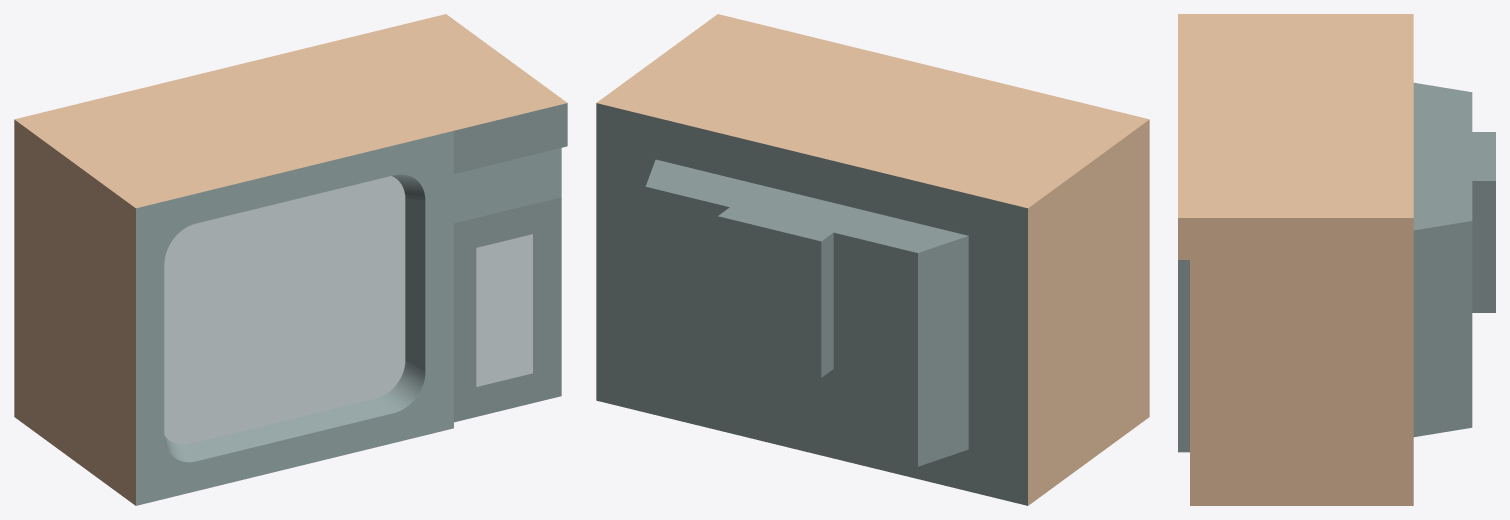
File: televisionvintage.glb
The picture shows the model from 3 angles, left to right: view 1: azimuth 30°, elevation 25°; view 2: azimuth 150°, elevation 25°; view 3: azimuth 270°, elevation 25°; orthographic projection. The views are drawn at different scales.
Visible parts, largest first — view 1: televisionVintage(Clone); view 2: televisionVintage(Clone); view 3: televisionVintage(Clone).
Part boxes in pixels (x1,y1,x2,y2): televisionVintage(Clone): [14, 14, 567, 505]; televisionVintage(Clone): [596, 14, 1149, 505]; televisionVintage(Clone): [1178, 14, 1495, 505].
Bounding box in the file's own units: 0.41 × 0.27 × 0.27.
